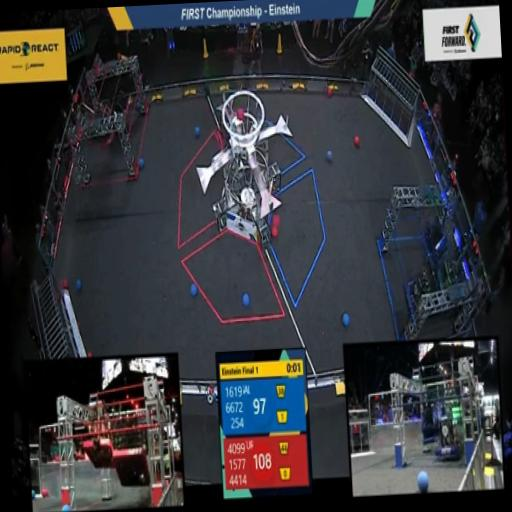robot: (432, 249, 474, 315), (414, 196, 452, 263), (79, 86, 115, 150), (400, 262, 434, 324), (102, 73, 138, 129)
